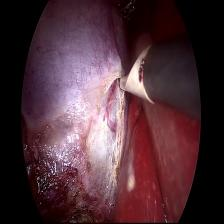Grasper: (116, 0, 145, 32)
Hook: (113, 42, 162, 116)
